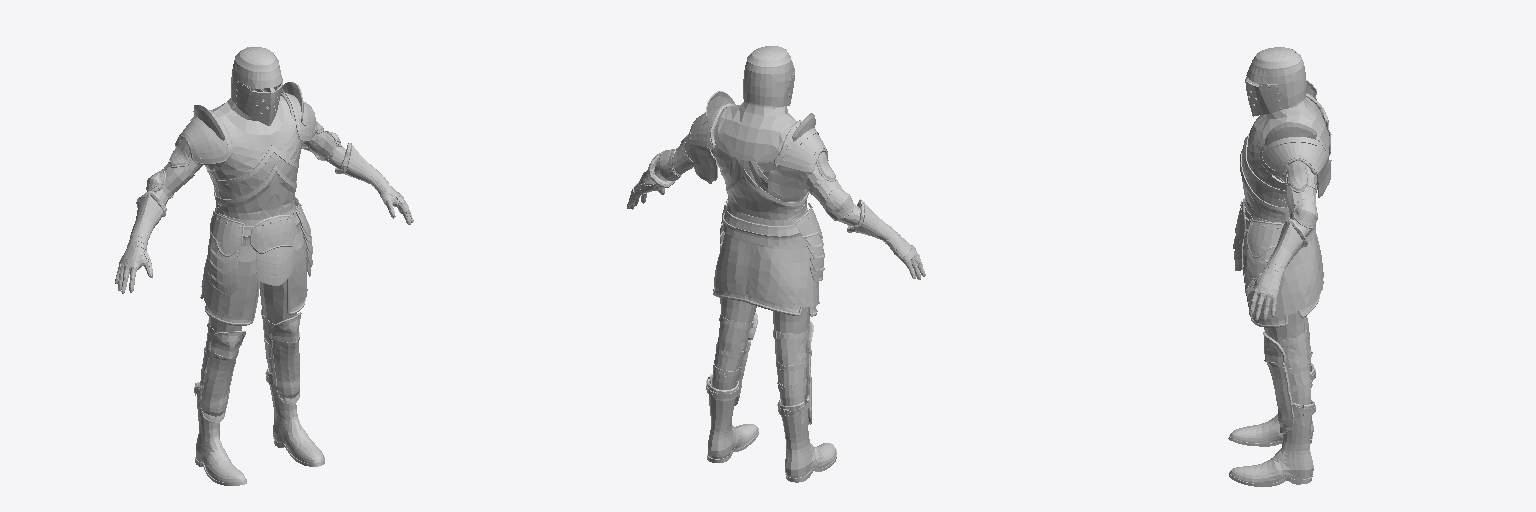
The model's file is genouillere_droityye.obj.
3 renders of one model, left to right at view 1: azimuth 30°, elevation 25°; view 2: azimuth 150°, elevation 25°; view 3: azimuth 270°, elevation 25°, orthographic.
Parts seen in each view (by area): view 1: Soi_SimpleArmor_Plane.381, Soi_SimpleArmor_Kneeguards_Plane.002, Soi_SimpleArmor_Boots_Plane.395, Soi_SimpleArmor_Gloves_Plane.389, Soi_SimpleArmor_Spaulders_Plane.390, Soi_SimpleArmor_Helmet_Plane.419, Soi_SimpleArmor_Sideguards_Plane.394, Soi_SimpleArmor_Frontuards_Plane.415, Soi_SimpleArmor_Hood_Plane.392; view 2: Soi_SimpleArmor_Plane.381, Soi_SimpleArmor_Spaulders_Plane.390, Soi_SimpleArmor_Boots_Plane.395, Soi_SimpleArmor_Hood_Plane.392, Soi_SimpleArmor_Helmet_Plane.419, Soi_SimpleArmor_Gloves_Plane.389, Soi_SimpleArmor_Kneeguards_Plane.002, Soi_SimpleArmor_Sideguards_Plane.394; view 3: Soi_SimpleArmor_Plane.381, Soi_SimpleArmor_Boots_Plane.395, Soi_SimpleArmor_Helmet_Plane.419, Soi_SimpleArmor_Spaulders_Plane.390, Soi_SimpleArmor_Gloves_Plane.389, Soi_SimpleArmor_Kneeguards_Plane.002, Soi_SimpleArmor_Hood_Plane.392, Soi_SimpleArmor_Sideguards_Plane.394, Soi_SimpleArmor_Frontuards_Plane.415.
Part boxes in pixels (x1,y1,x2,y2): Soi_SimpleArmor_Plane.381: (146,89,345,385); Soi_SimpleArmor_Kneeguards_Plane.002: (194,309,301,422); Soi_SimpleArmor_Boots_Plane.395: (195,368,324,485); Soi_SimpleArmor_Gloves_Plane.389: (115,143,413,293); Soi_SimpleArmor_Spaulders_Plane.390: (175,82,316,170); Soi_SimpleArmor_Helmet_Plane.419: (231,47,282,125); Soi_SimpleArmor_Sideguards_Plane.394: (208,197,312,296); Soi_SimpleArmor_Frontuards_Plane.415: (250,215,296,285); Soi_SimpleArmor_Hood_Plane.392: (211,84,295,151); Soi_SimpleArmor_Plane.381: (654,134,864,405); Soi_SimpleArmor_Spaulders_Plane.390: (687,91,828,201); Soi_SimpleArmor_Boots_Plane.395: (707,374,836,482); Soi_SimpleArmor_Hood_Plane.392: (714,100,797,161); Soi_SimpleArmor_Helmet_Plane.419: (743,46,794,106); Soi_SimpleArmor_Gloves_Plane.389: (627,152,925,279); Soi_SimpleArmor_Kneeguards_Plane.002: (706,312,813,424); Soi_SimpleArmor_Sideguards_Plane.394: (720,199,824,280); Soi_SimpleArmor_Plane.381: (1240,134,1328,413); Soi_SimpleArmor_Boots_Plane.395: (1228,363,1314,486); Soi_SimpleArmor_Helmet_Plane.419: (1245,47,1306,116); Soi_SimpleArmor_Spaulders_Plane.390: (1260,80,1331,197); Soi_SimpleArmor_Gloves_Plane.389: (1245,219,1307,320); Soi_SimpleArmor_Kneeguards_Plane.002: (1263,327,1315,433); Soi_SimpleArmor_Hood_Plane.392: (1248,97,1329,147); Soi_SimpleArmor_Sideguards_Plane.394: (1246,219,1284,297); Soi_SimpleArmor_Frontuards_Plane.415: (1233,198,1245,270).
Size of the model in its own units: 1.39 by 1.87 by 0.4245.